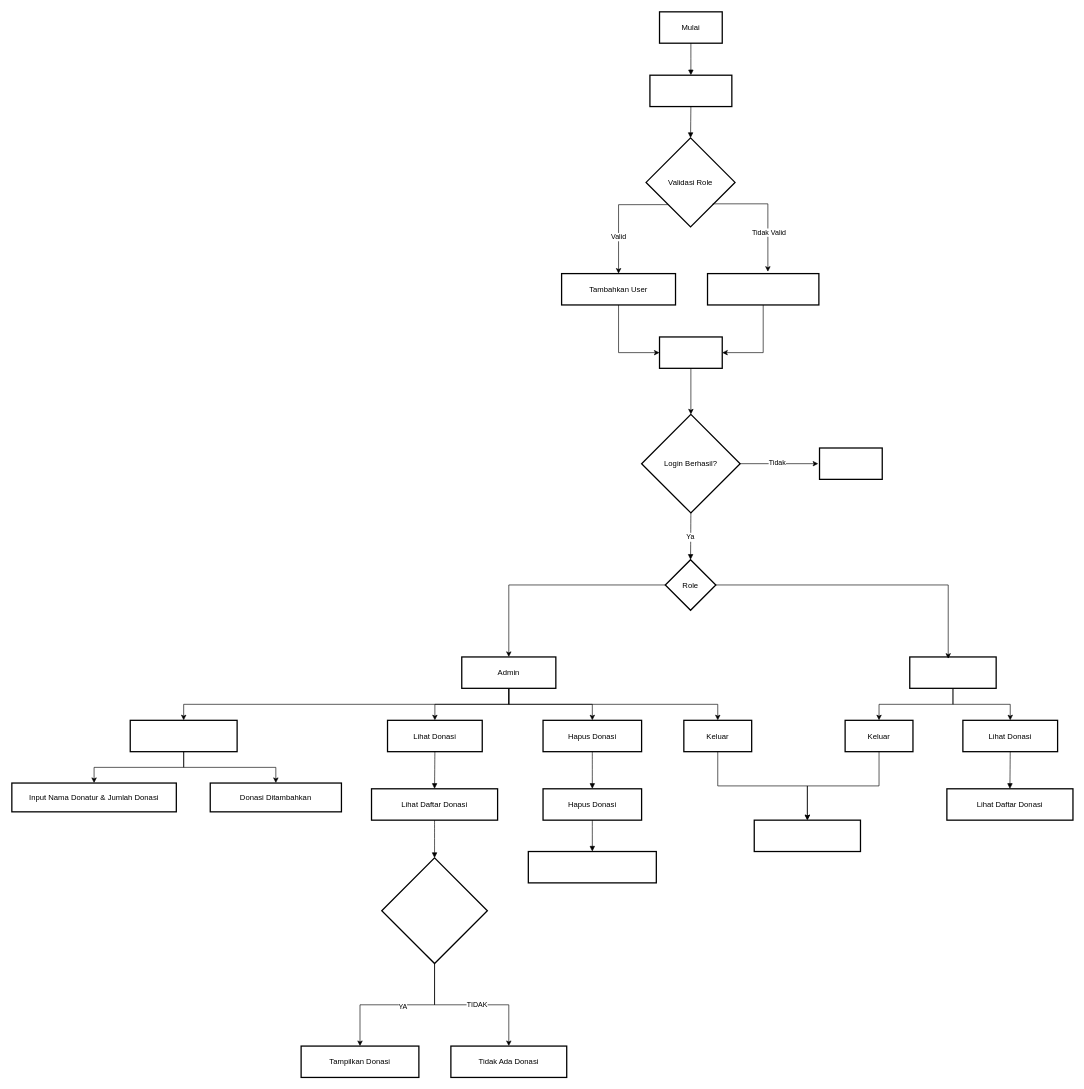
This 1084x1089 diagram has some shape labels left out. Each missing label, with the box of its shape:
Akhiri Program: (753, 819, 861, 852)
Donasi Tersedia?: (381, 857, 488, 964)
Gagal Registrasi: (707, 273, 819, 305)
Input Nomor Donasi: (527, 851, 657, 883)
Kembali Login: (819, 447, 883, 480)
Login: (659, 336, 723, 369)
Registrasi: (649, 74, 732, 107)
Tambah Donasi: (129, 719, 237, 752)
User: (909, 656, 996, 689)
